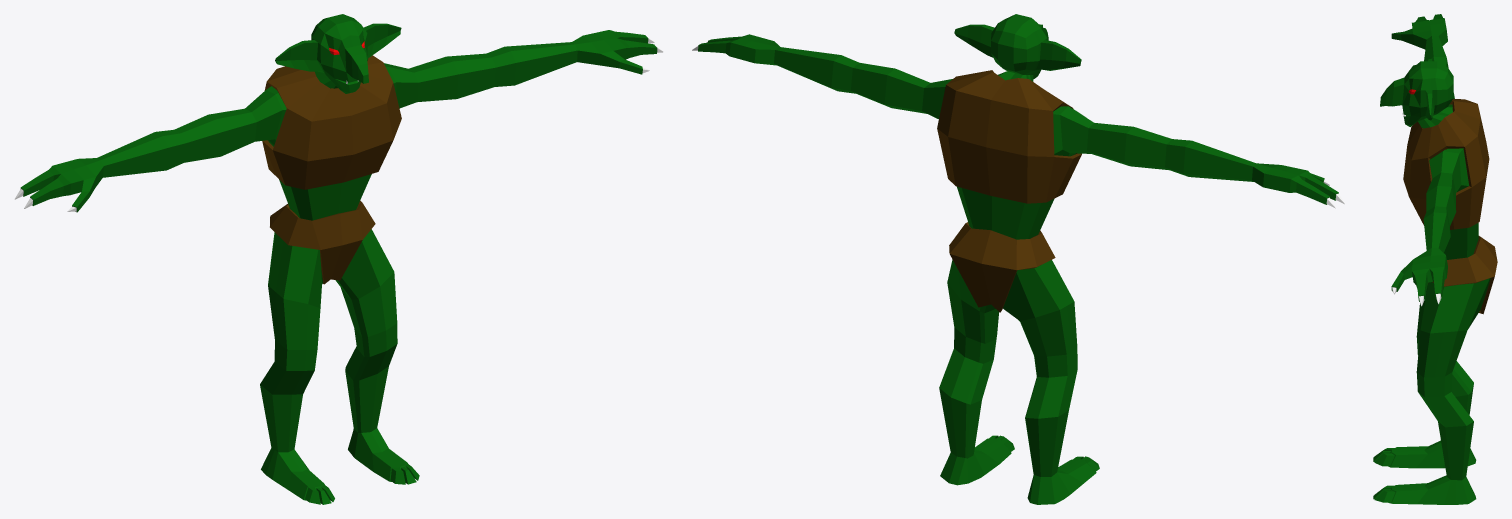
Rendered from HobGoblin.fbx.
3 views of the same model, side by side, from view 1: azimuth 30°, elevation 25°; view 2: azimuth 150°, elevation 25°; view 3: azimuth 270°, elevation 25° (orthographic). The views are drawn at different scales.
Parts seen in each view (by area): view 1: Hobgoblin; view 2: Hobgoblin; view 3: Hobgoblin.
Boxes of the visible parts, left/top/right/bottom form: Hobgoblin: left=14, top=14, right=663, bottom=504; Hobgoblin: left=692, top=14, right=1344, bottom=504; Hobgoblin: left=1373, top=14, right=1497, bottom=504.
Size of the model in its own units: 399 by 271 by 73.36.
